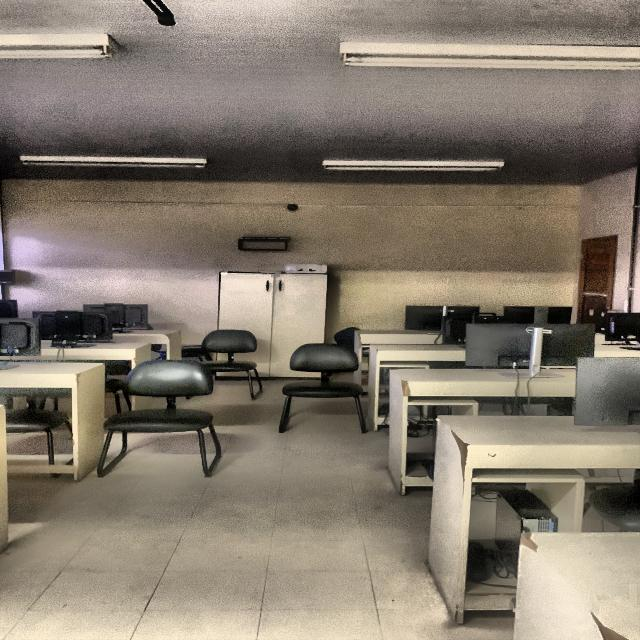cadeira: (108, 359, 223, 478), (278, 329, 369, 434), (198, 330, 264, 401), (9, 408, 72, 466)
